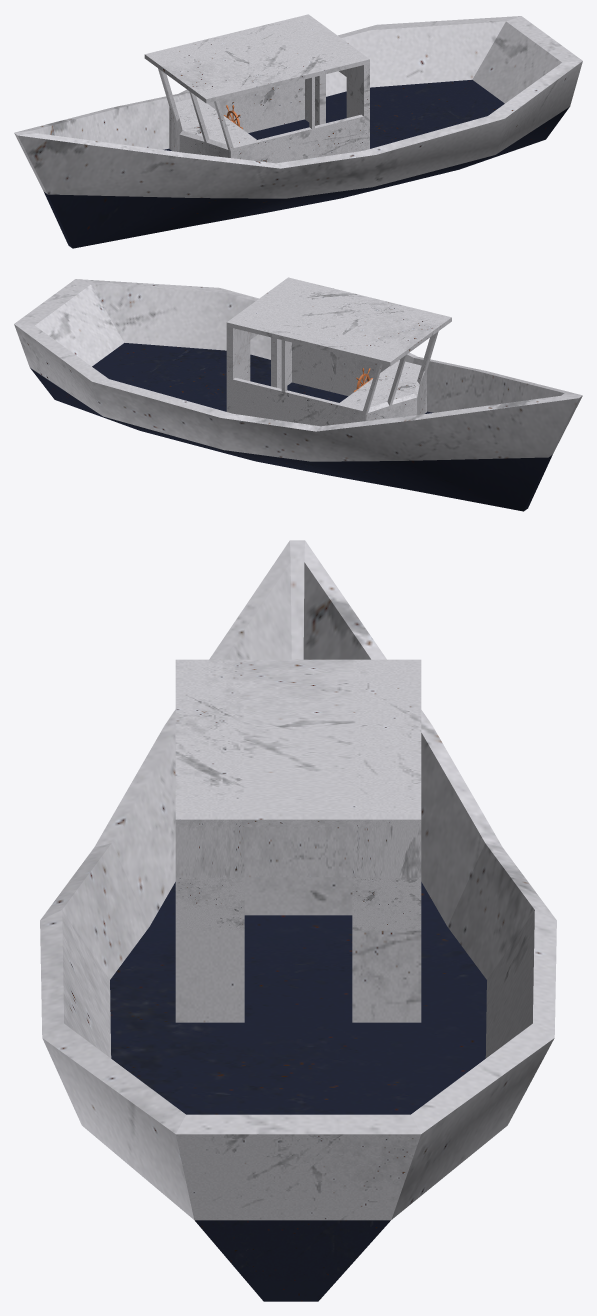
File: boat.fbx
The picture shows the model from 3 angles, top to bottom: view 1: azimuth 30°, elevation 25°; view 2: azimuth 150°, elevation 25°; view 3: azimuth 270°, elevation 25°; orthographic projection. The views are drawn at different scales.
Visible parts, largest first — view 1: boat; view 2: boat; view 3: boat.
Boxes of the visible parts, box(x1,y1,x2,y2) form: boat: box(14, 14, 582, 248); boat: box(14, 277, 582, 511); boat: box(40, 540, 556, 1301).
Size of the model in its own units: 1693 by 436 by 707.
Materials: 1 (1 with a texture image).
